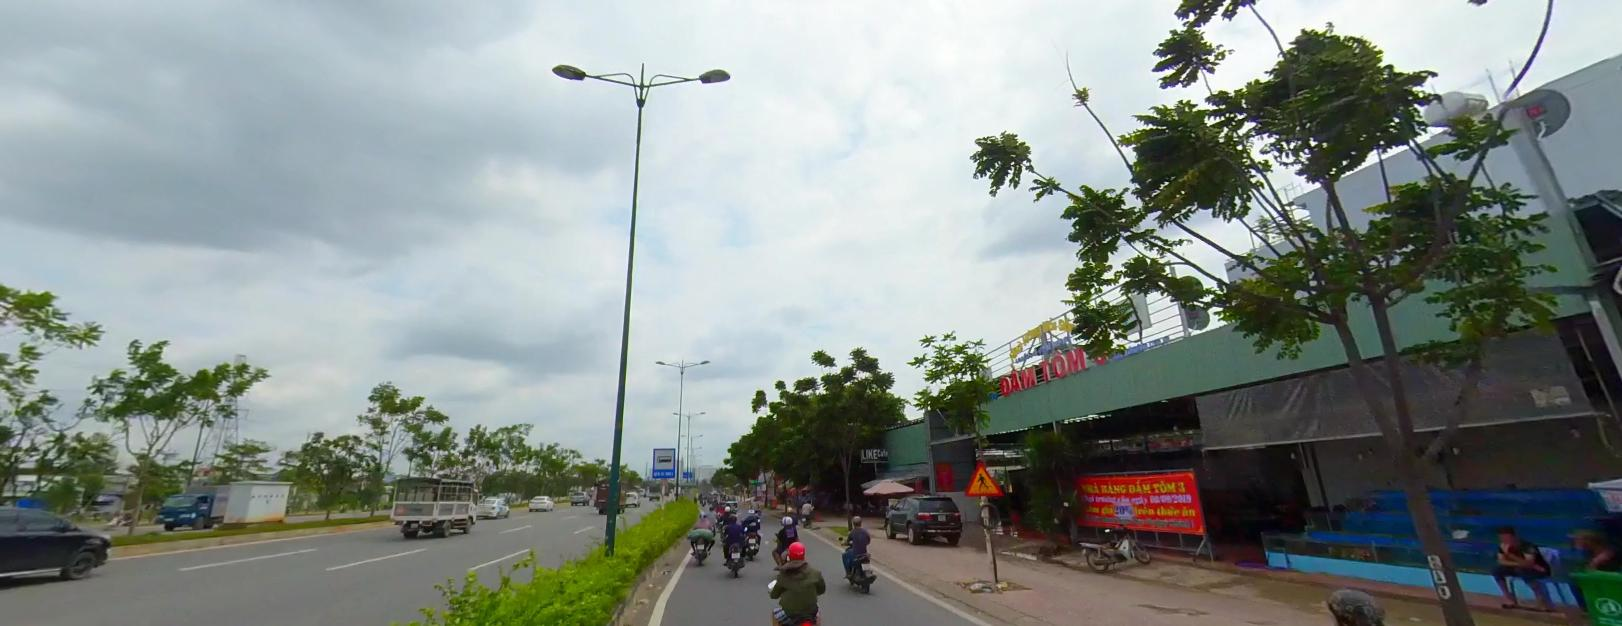Nguy hiem: (962, 458, 1003, 496)
